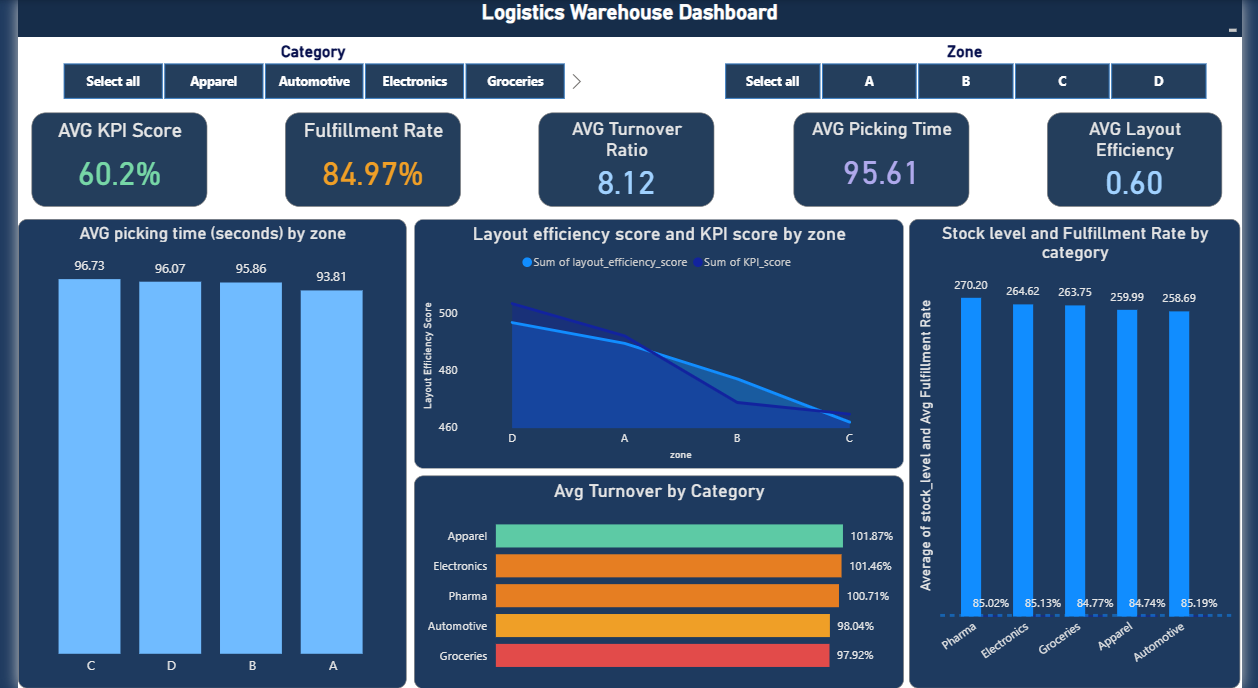

The dashboard page shown, as its layout file describes it:
{"tool":"powerbi","page":{"name":"Performance","canvas":[1280,720],"ordinal":1},"visuals":[{"type":"textbox","title":"Logistics Warehouse Dashboard","box":[0,0,1280.4,38.1],"z":0},{"type":"slicer","title":"Category","fields":{"Values":["logistics_powerbi.category"]},"box":[22.7,44.4,574,66.2],"z":1000},{"type":"slicer","title":"Zone","fields":{"Values":["logistics_powerbi.zone"]},"box":[714.6,44.4,553.1,66.2],"z":2000},{"type":"clusteredColumnChart","title":"Stock level and Fulfillment Rate by category","fields":{"Category":["logistics_powerbi.category"],"Y":["Avg(logistics_powerbi.stock_level)","logistics_powerbi.Avg Fulfillment Rate"]},"box":[932.5,229.2,346.9,491.3],"z":3000},{"type":"barChart","title":"Avg Turnover by Category","fields":{"Category":["logistics_powerbi.category"],"Y":["logistics_powerbi.Avg Turnover by Category"]},"box":[414.4,496.9,512.3,223.1],"z":4000},{"type":"card","title":"AVG KPI Score","fields":{"Values":["logistics_powerbi.Avg KPI Score"]},"box":[14.5,117.9,184.1,98.8],"z":5000},{"type":"card","title":"Fulfillment Rate","fields":{"Values":["logistics_powerbi.Avg Fulfillment Rate"]},"box":[280,117.9,184.1,98.8],"z":6000},{"type":"card","title":"AVG Turnover Ratio","fields":{"Values":["Avg(logistics_powerbi.turnover_ratio)"]},"box":[545.4,117.9,184.1,98.8],"z":7000},{"type":"card","title":"AVG Picking Time","fields":{"Values":["Avg(logistics_powerbi.picking_time_seconds)"]},"box":[810.9,117.9,184.1,98.8],"z":8000},{"type":"card","title":"AVG Layout Efficiency","fields":{"Values":["Avg(logistics_powerbi.layout_efficiency_score)"]},"box":[1076.4,117.9,183.2,98.8],"z":9000},{"type":"areaChart","title":"Layout efficiency score and KPI score by zone","fields":{"Y":["Sum(logistics_powerbi.layout_efficiency_score)","Sum(logistics_powerbi.KPI_score)"],"Category":["logistics_powerbi.zone"]},"box":[414.4,229.4,512.3,261.2],"z":10000},{"type":"columnChart","title":"AVG picking time (seconds) by zone","fields":{"Category":["logistics_powerbi.zone"],"Y":["Avg(logistics_powerbi.picking_time_seconds)"]},"box":[0,229.2,406.6,491.3],"z":11000}]}

Visuals, with their boxes in screenshot pixels (x1, y1, x2, y2), scaled from the page's 1280x720 canvas onto the 1258x688 screenshot:
"Logistics Warehouse Dashboard" textbox: <region>0, 0, 1257, 36</region>
"Category" slicer: <region>22, 42, 586, 106</region>
"Zone" slicer: <region>702, 42, 1246, 106</region>
"Stock level and Fulfillment Rate by category" clusteredColumnChart: <region>916, 219, 1257, 687</region>
"Avg Turnover by Category" barChart: <region>407, 475, 911, 687</region>
"AVG KPI Score" card: <region>14, 113, 195, 207</region>
"Fulfillment Rate" card: <region>275, 113, 456, 207</region>
"AVG Turnover Ratio" card: <region>536, 113, 717, 207</region>
"AVG Picking Time" card: <region>797, 113, 978, 207</region>
"AVG Layout Efficiency" card: <region>1058, 113, 1238, 207</region>
"Layout efficiency score and KPI score by zone" areaChart: <region>407, 219, 911, 469</region>
"AVG picking time (seconds) by zone" columnChart: <region>0, 219, 400, 687</region>
